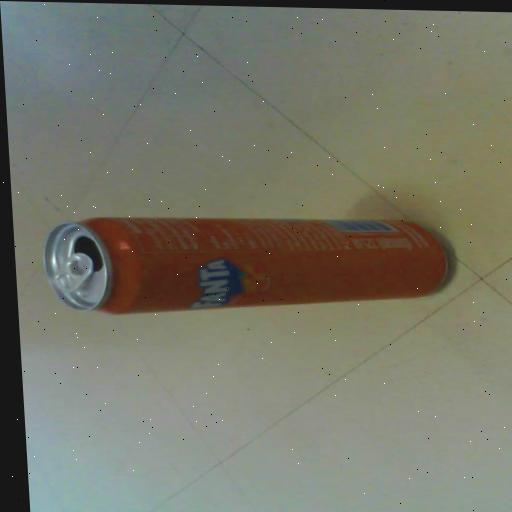canned: (27, 187, 477, 334)
